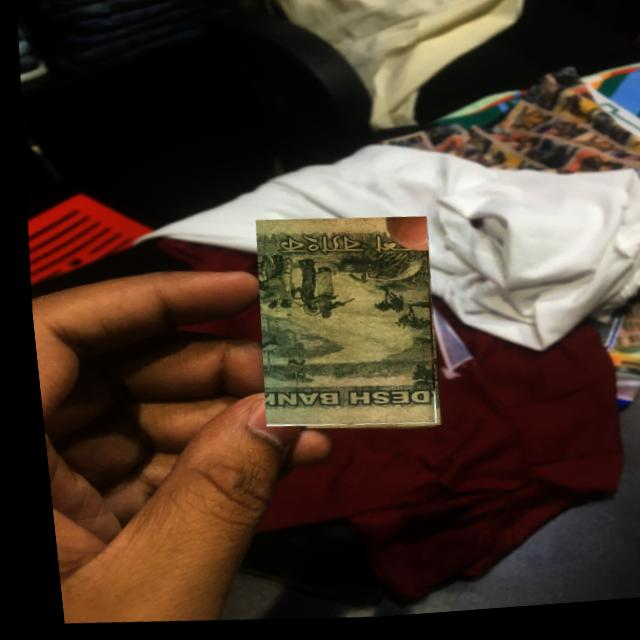Taka: (240, 214, 437, 439)
